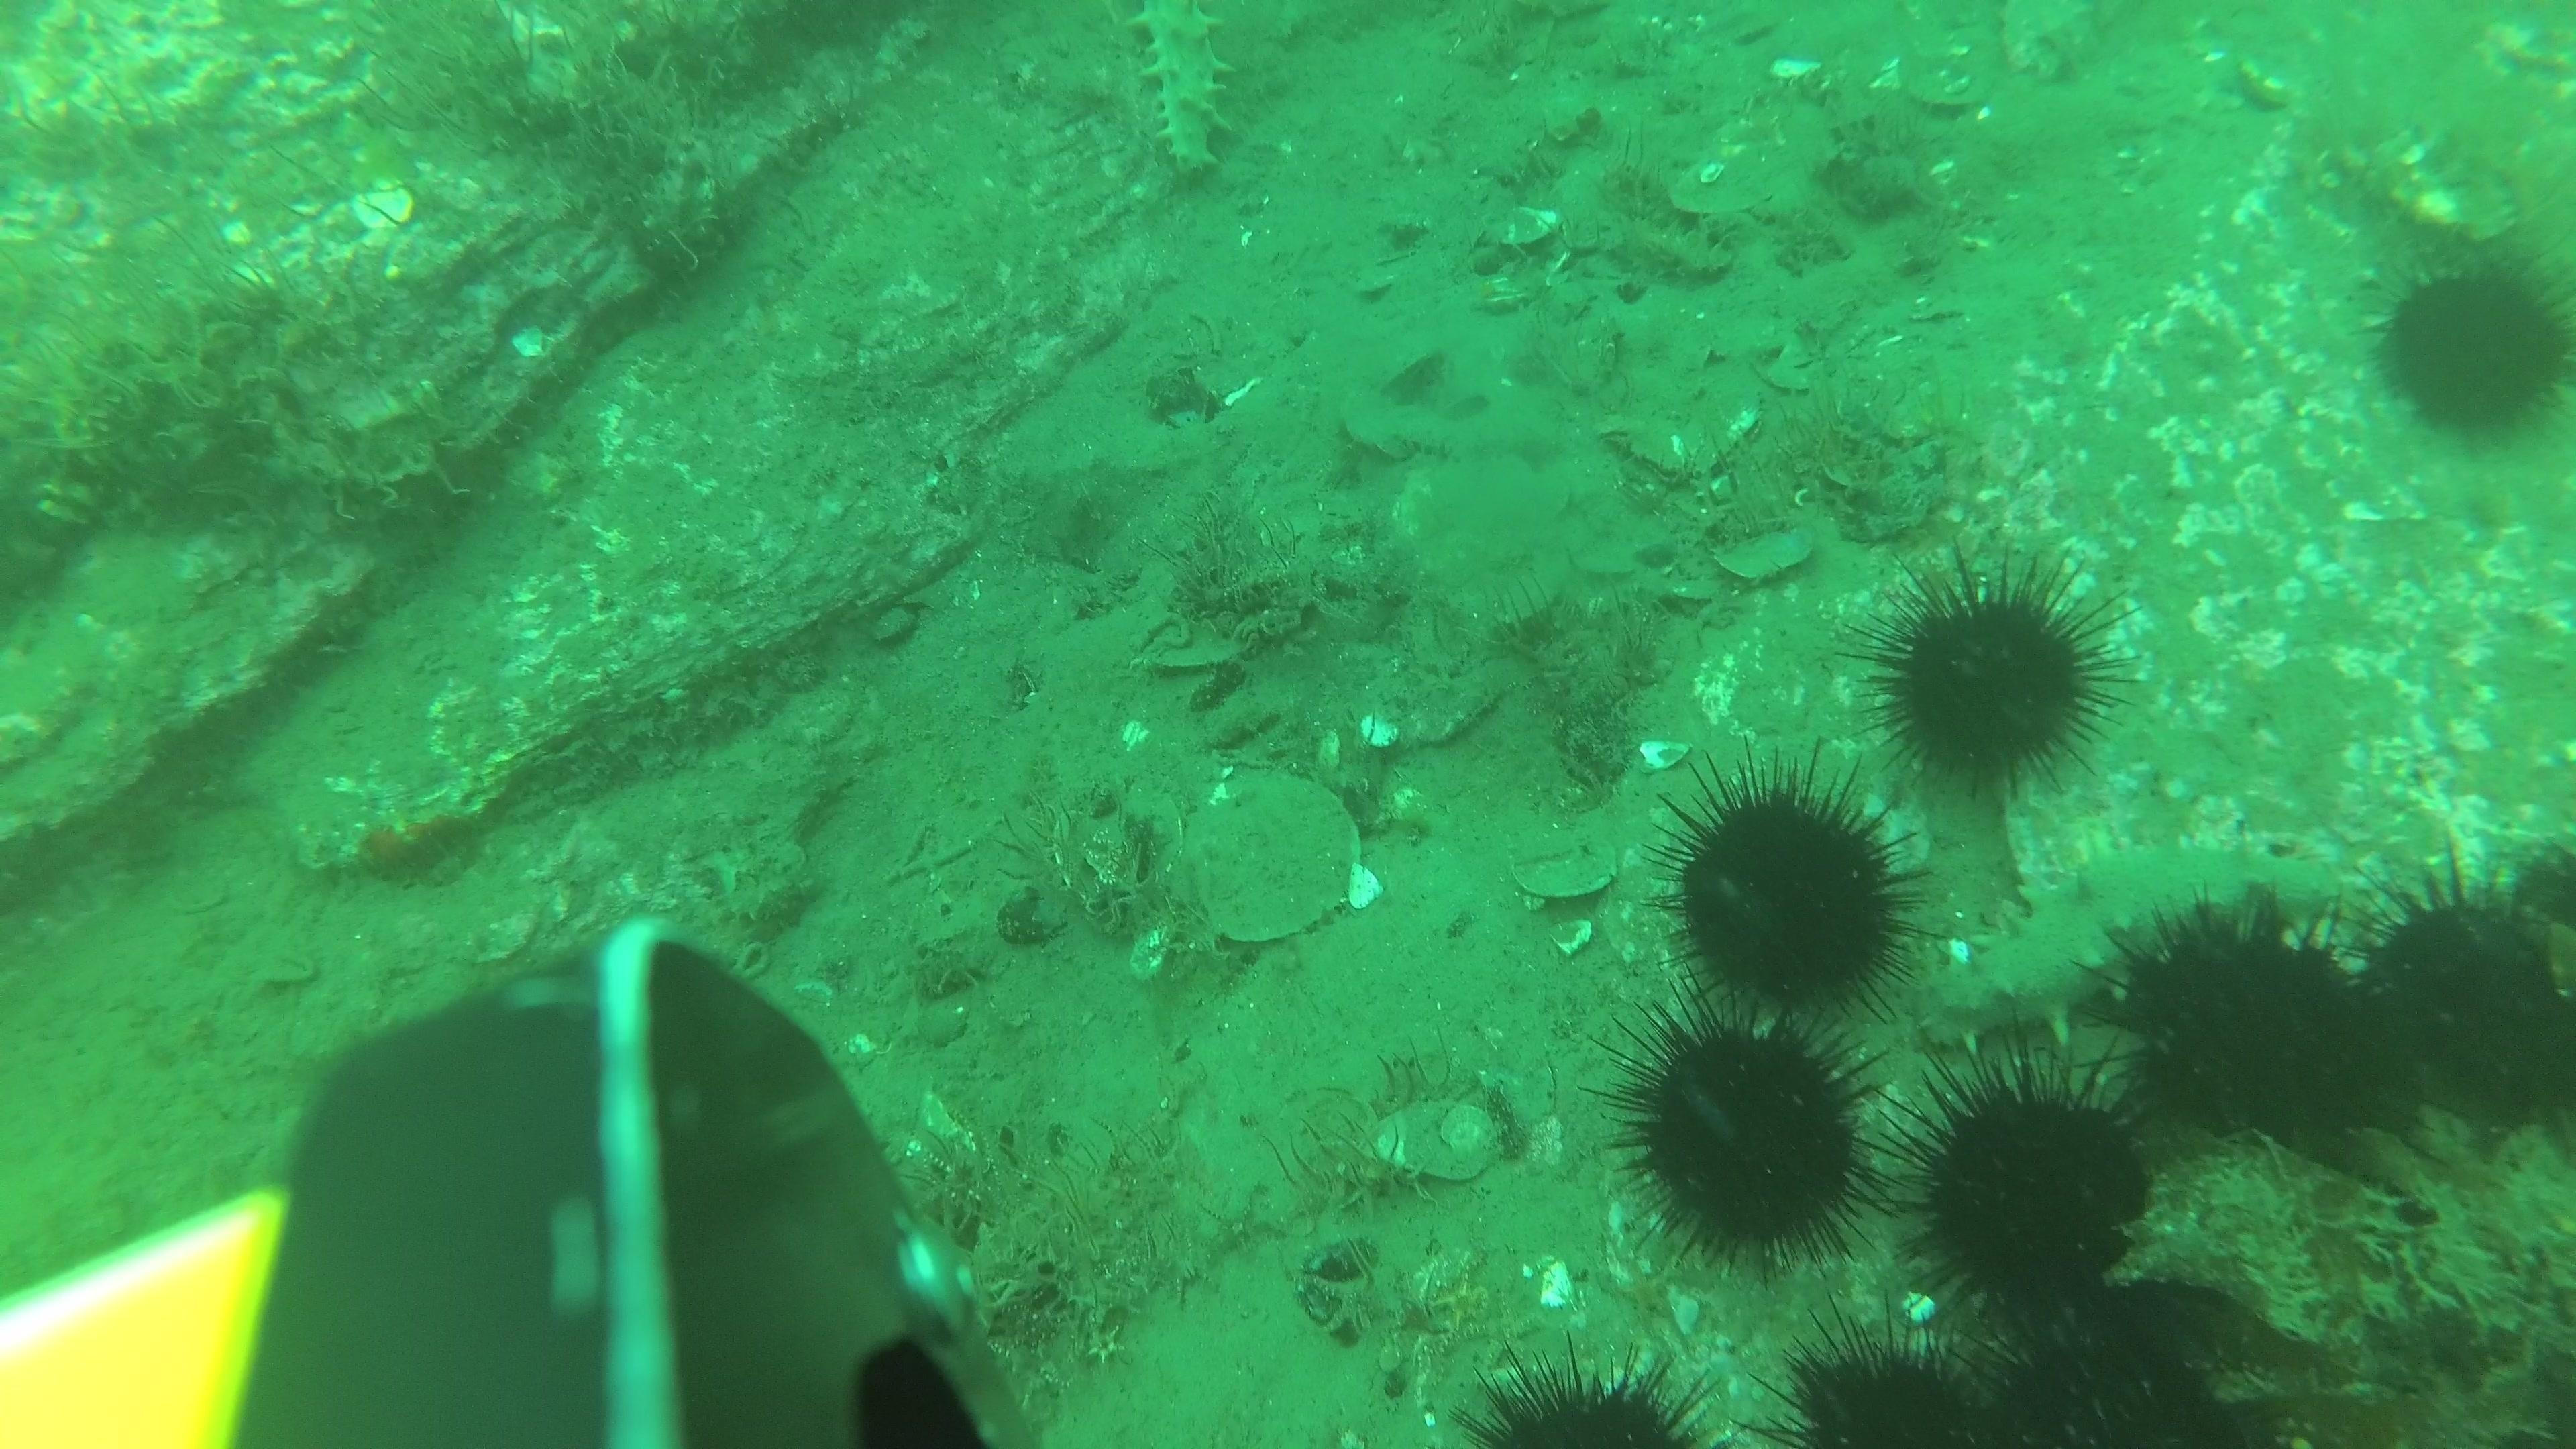echinus: (1872, 1028, 2157, 1327), (1599, 993, 1888, 1272), (1649, 754, 1928, 1026), (2109, 878, 2357, 1182), (1854, 550, 2130, 801), (2342, 844, 2574, 1138), (2367, 248, 2574, 446), (1969, 1306, 2243, 1444), (1759, 1309, 2003, 1442), (1454, 1345, 1723, 1444)
holothurian: (1928, 832, 2348, 1047), (1123, 0, 1238, 189)
scallop: (1177, 770, 1366, 948), (1392, 453, 1576, 605), (1371, 1093, 1507, 1187), (1997, 0, 2100, 85), (1713, 520, 1817, 587), (1914, 71, 1985, 120)
